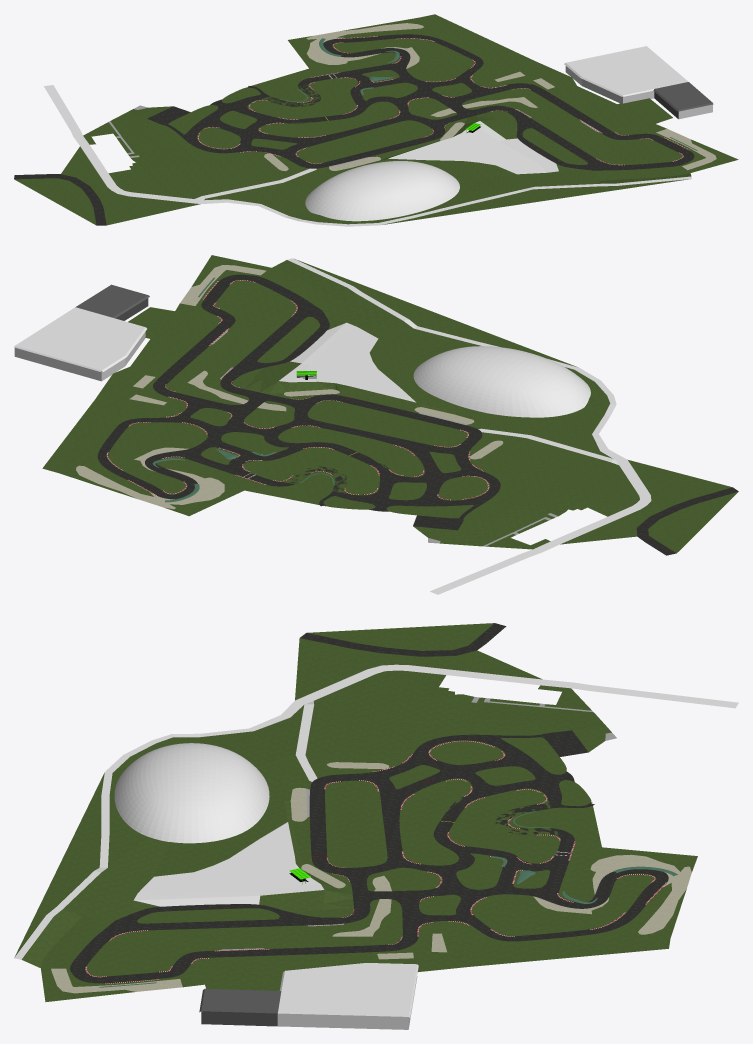
The model's file is EasternCreekNorm.fbx.
3 views of the same model, one above another, from view 1: azimuth 30°, elevation 25°; view 2: azimuth 150°, elevation 25°; view 3: azimuth 270°, elevation 25° (orthographic). The views are drawn at different scales.
Visible parts, largest first — view 1: TRKGRAS, TRKASPH, TRKASPH_DARK_GRAVEL, The dome, Warehouses, TRKSAND, TRKKERB_SMALL, TRKKERB_BIG; view 2: TRKGRAS, TRKASPH, The dome, TRKASPH_DARK_GRAVEL, Warehouses, TRKSAND, TRKKERB_SMALL; view 3: TRKGRAS, TRKASPH, TRKASPH_DARK_GRAVEL, The dome, Warehouses, TRKSAND, TRKKERB_SMALL, TRKKERB_BIG.
Boxes of the visible parts, <box> form: TRKGRAS: <box>14,14,738,225</box>; TRKASPH: <box>14,34,694,225</box>; TRKASPH_DARK_GRAVEL: <box>44,85,691,226</box>; The dome: <box>305,161,459,221</box>; Warehouses: <box>564,46,713,119</box>; TRKSAND: <box>264,23,716,171</box>; TRKKERB_SMALL: <box>198,36,690,165</box>; TRKKERB_BIG: <box>280,38,697,150</box>; TRKGRAS: <box>42,255,738,553</box>; TRKASPH: <box>97,274,738,555</box>; The dome: <box>413,346,590,417</box>; TRKASPH_DARK_GRAVEL: <box>279,258,651,594</box>; Warehouses: <box>14,284,149,381</box>; TRKSAND: <box>76,265,503,509</box>; TRKKERB_SMALL: <box>106,280,489,500</box>; TRKGRAS: <box>14,623,697,1002</box>; TRKASPH: <box>70,623,668,983</box>; TRKASPH_DARK_GRAVEL: <box>14,664,738,959</box>; The dome: <box>114,743,269,843</box>; Warehouses: <box>199,963,418,1029</box>; TRKSAND: <box>51,762,691,993</box>; TRKKERB_SMALL: <box>85,740,666,984</box>; TRKKERB_BIG: <box>99,811,677,987</box>.
Bounding box in the file's own units: 47055 × 1841 × 35439.
14 materials, 3 textured.
